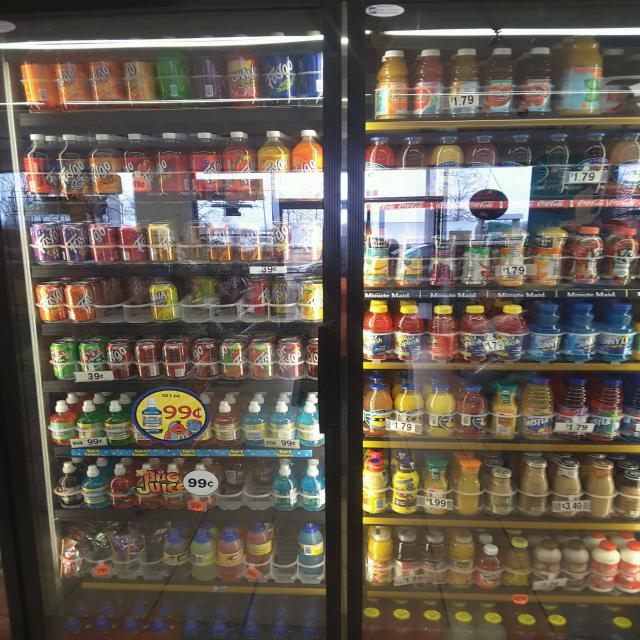empty: (268, 515, 304, 590)
